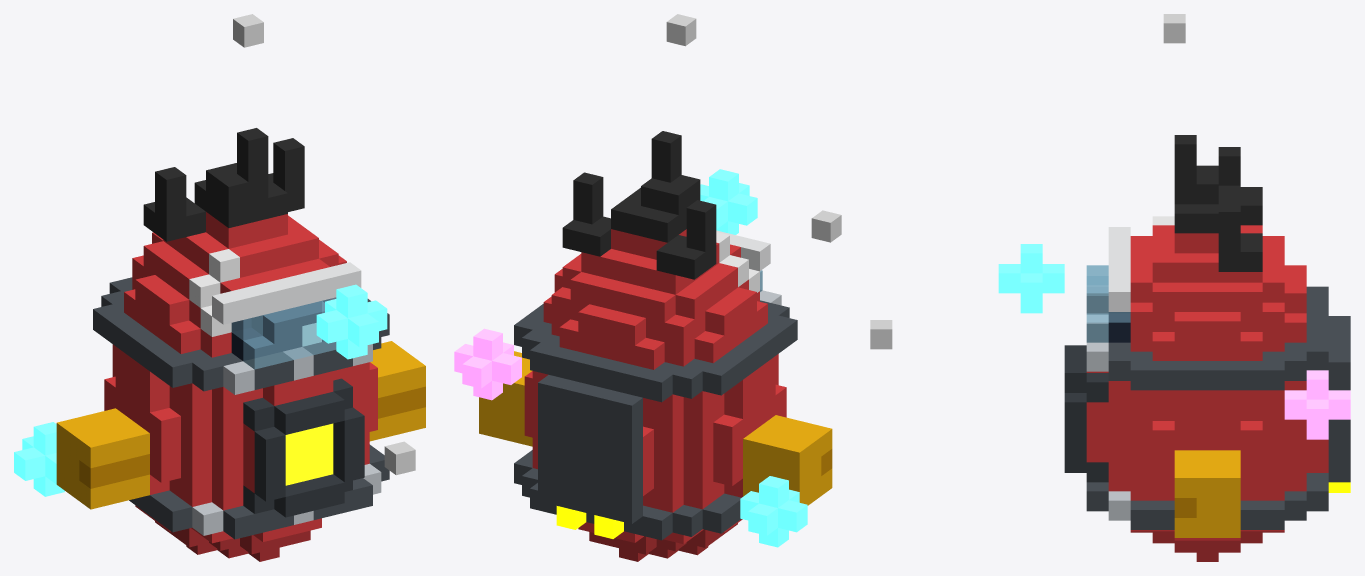
Rendered from Egg_Daichi.fbx.
3 renders of one model, left to right at view 1: azimuth 30°, elevation 25°; view 2: azimuth 150°, elevation 25°; view 3: azimuth 270°, elevation 25°, orthographic. The views are drawn at different scales.
Parts seen in each view (by area): view 1: Egg, Egg__Tint_100, Ornament__Orbit_Neon_34E7E4, Egg__Glass_8ECAE6_35, Egg__Neon_FFD60A, Egg__Tint_080, FrontMarker, TopMarker; view 2: Egg, Egg__Tint_100, Ornament__Orbit_Neon_34E7E4, Ornament__Orbit_Neon_FF4FD8, Egg__Tint_080, Egg__Neon_FF8800, FrontMarker, TopMarker; view 3: Egg__Tint_100, Egg, Ornament__Orbit_Neon_FF4FD8, Ornament__Orbit_Neon_34E7E4, Egg__Glass_8ECAE6_35, Egg__Tint_080, FrontMarker, TopMarker.
Boxes of the visible parts, box(x1,y1,x2,y2) form: Egg: box(56, 128, 425, 539); Egg__Tint_100: box(104, 212, 377, 543); Ornament__Orbit_Neon_34E7E4: box(14, 284, 387, 496); Egg__Glass_8ECAE6_35: box(231, 297, 336, 369); Egg__Neon_FFD60A: box(285, 423, 333, 485); Egg__Tint_080: box(155, 521, 310, 561); FrontMarker: box(384, 441, 415, 475); TopMarker: box(233, 14, 263, 47); Egg: box(479, 131, 832, 540); Egg__Tint_100: box(524, 229, 786, 544); Ornament__Orbit_Neon_34E7E4: box(700, 169, 807, 547); Ornament__Orbit_Neon_FF4FD8: box(454, 328, 521, 400); Egg__Tint_080: box(589, 523, 737, 561); Egg__Neon_FF8800: box(556, 506, 623, 538); FrontMarker: box(811, 210, 841, 242); TopMarker: box(666, 14, 696, 46); Egg__Tint_100: box(1086, 225, 1328, 540); Egg: box(1064, 135, 1350, 537); Ornament__Orbit_Neon_FF4FD8: box(1284, 370, 1350, 439); Ornament__Orbit_Neon_34E7E4: box(998, 244, 1064, 313); Egg__Glass_8ECAE6_35: box(1086, 265, 1130, 342); Egg__Tint_080: box(1130, 531, 1284, 561); FrontMarker: box(870, 320, 892, 349); TopMarker: box(1163, 14, 1185, 43).
Size of the model in its own units: 3.38 by 4.84 by 4.09.
